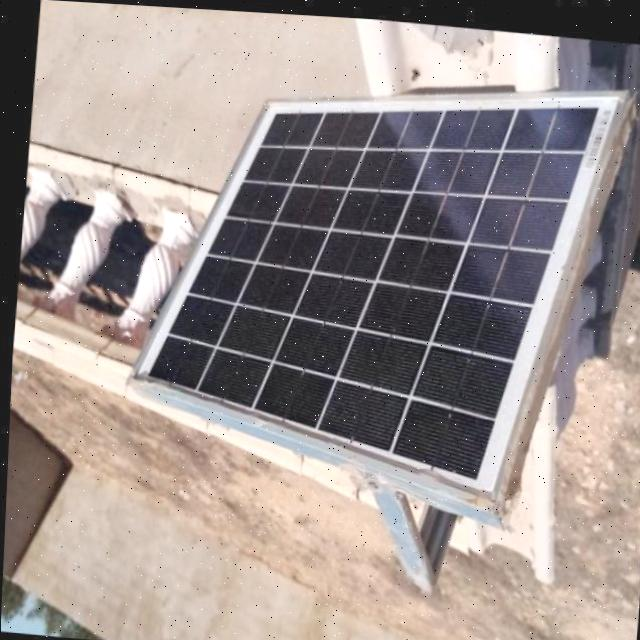Normal Solar Panel: (123, 47, 619, 506)
